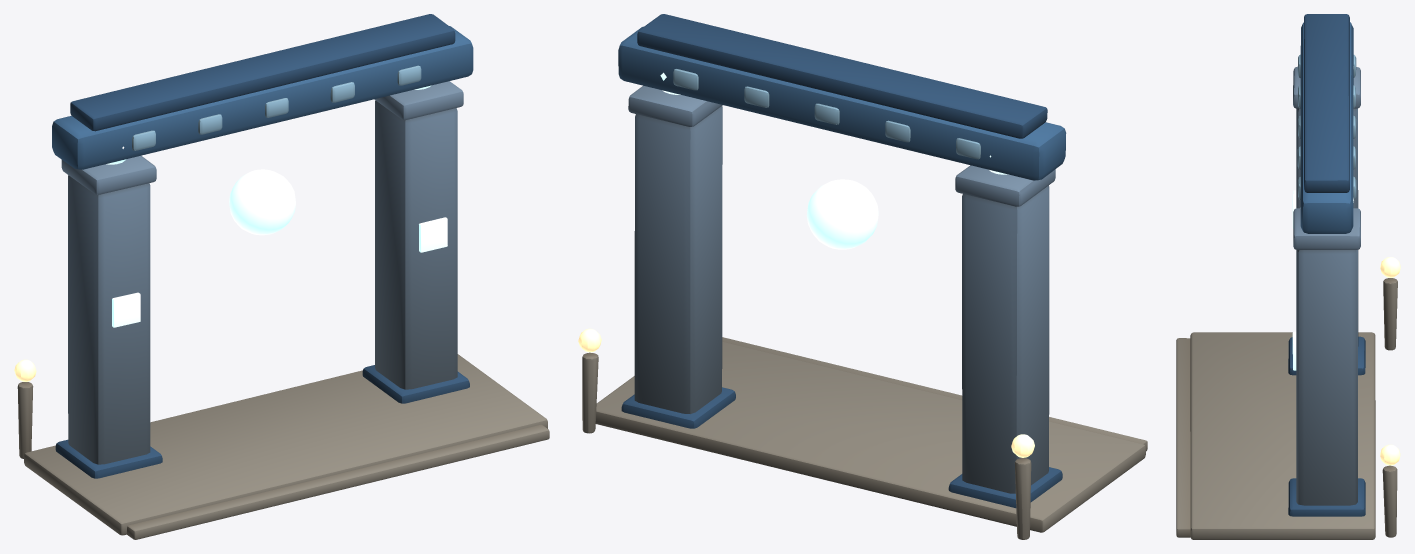
3 renders of one model, left to right at view 1: azimuth 30°, elevation 25°; view 2: azimuth 150°, elevation 25°; view 3: azimuth 270°, elevation 25°, orthographic. The views are drawn at different scales.
Visible parts, largest first — view 1: gate_0a0787be; view 2: gate_0a0787be; view 3: gate_0a0787be.
Part boxes in pixels (<box>): gate_0a0787be: <box>14,14,549,539</box>; gate_0a0787be: <box>578,14,1147,539</box>; gate_0a0787be: <box>1176,14,1400,539</box>.
Size of the model in its own units: 5.3 by 4.34 by 2.55.
